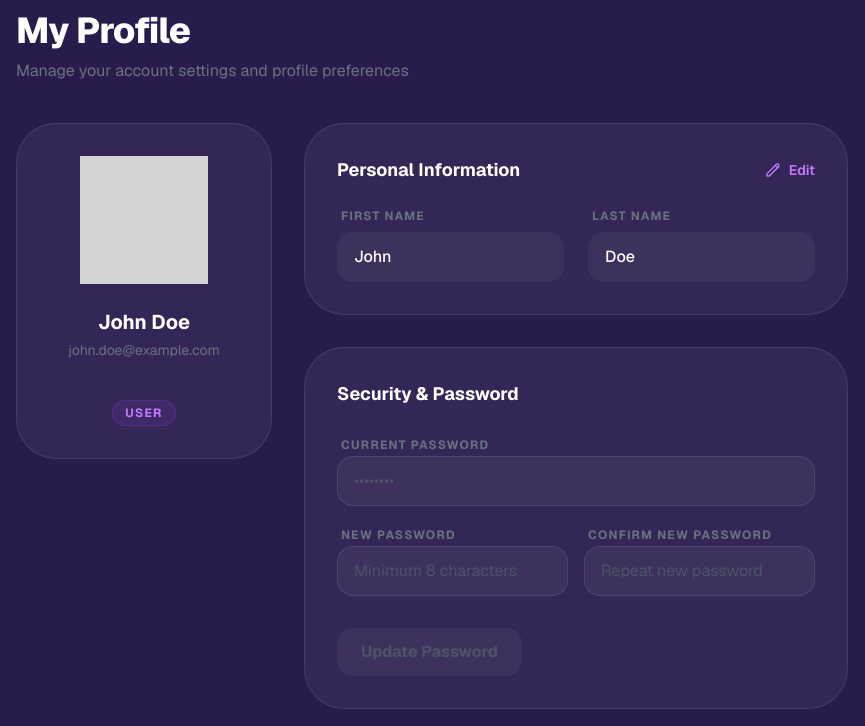
Test case: MyProfilePage › shows password mismatch error
expect the heading "Security & Password" is shown: met, box [337,382,519,405]
Type "oldpass" into the password field with placeholder "••••••••" at point(576, 481), box [337,456,815,506]
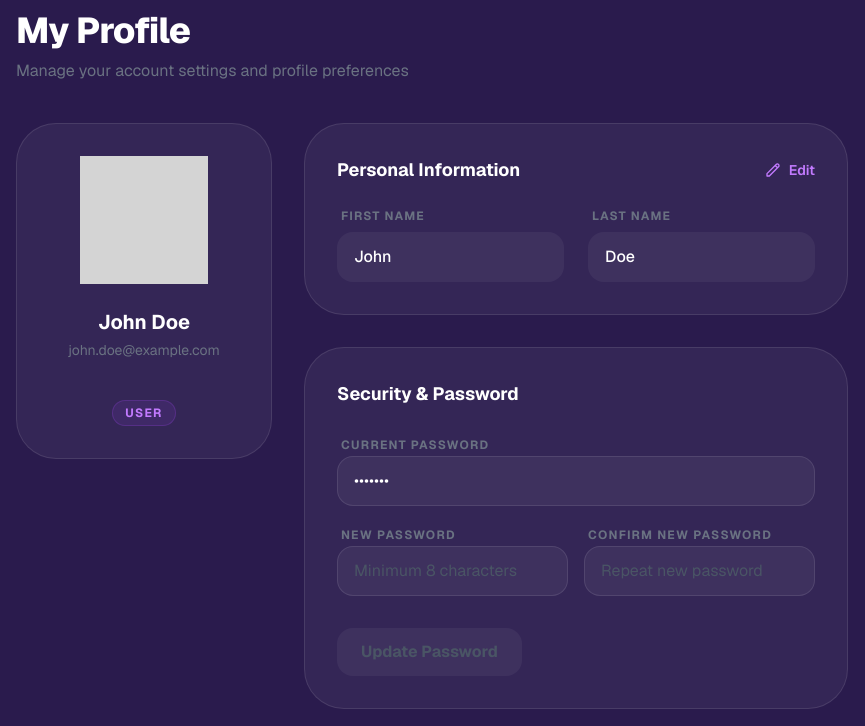
Type "pass123" into the password field with placeholder "Minimum 8 characters" at point(452, 571), box [337,546,568,596]
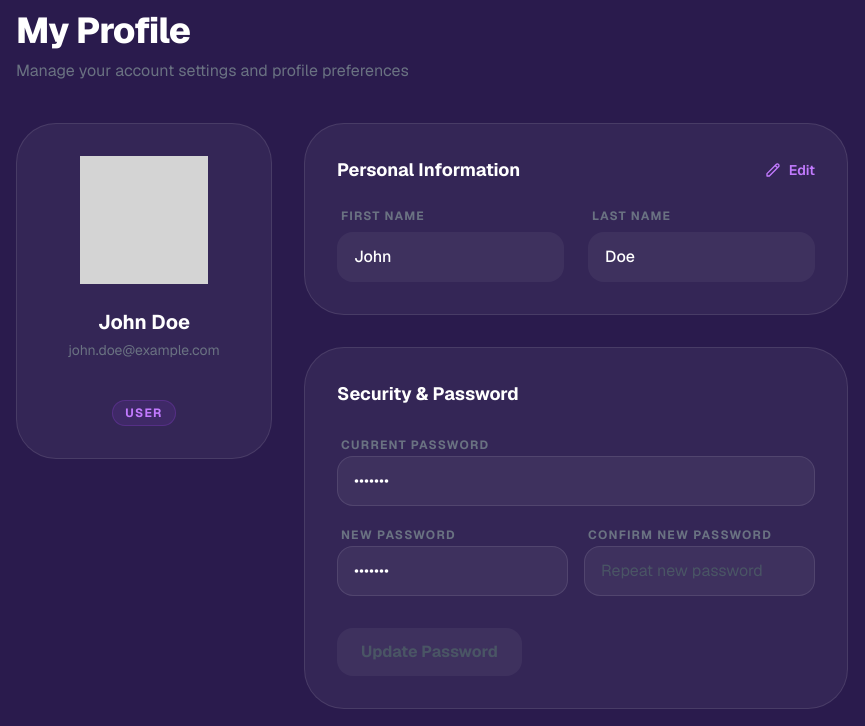
Type "different" into the password field with placeholder "Repeat new password" at point(700, 571), box [584,546,815,596]
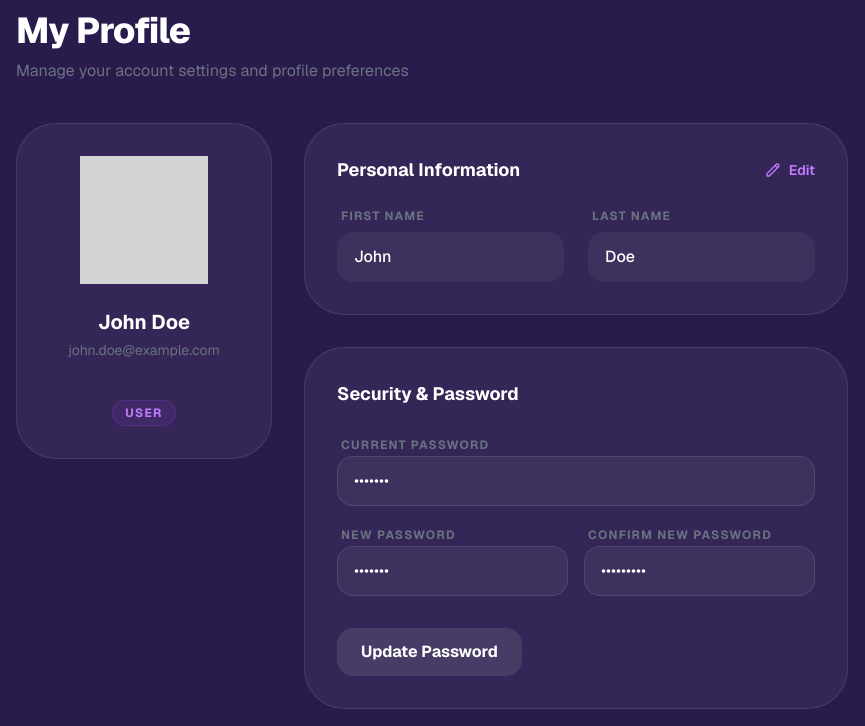
Click the button "Update Password" at point(429, 652), box [337,628,522,676]
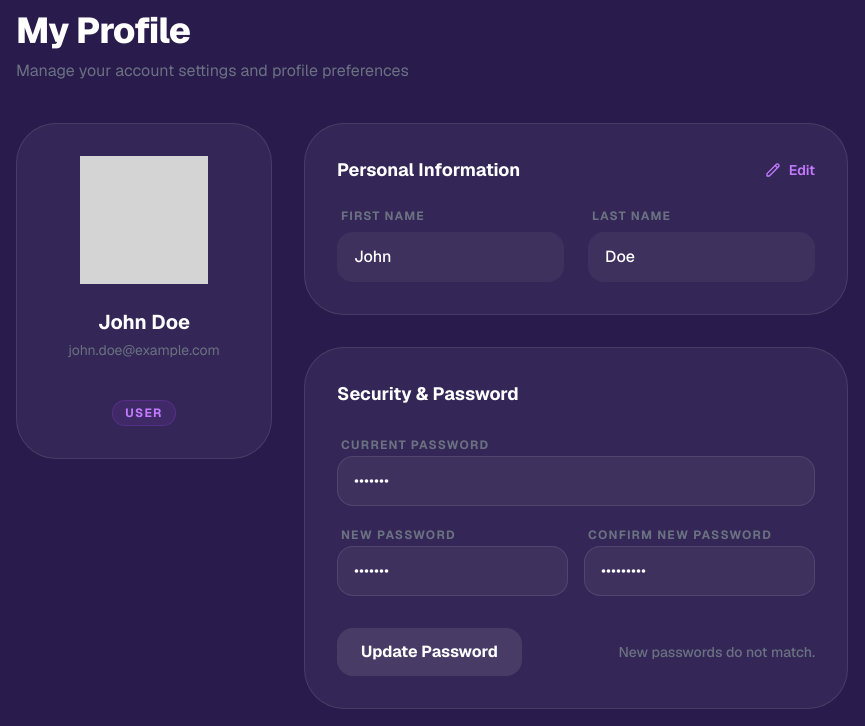
expect the text "New passwords do not match." is shown: met, box [618,642,815,662]
